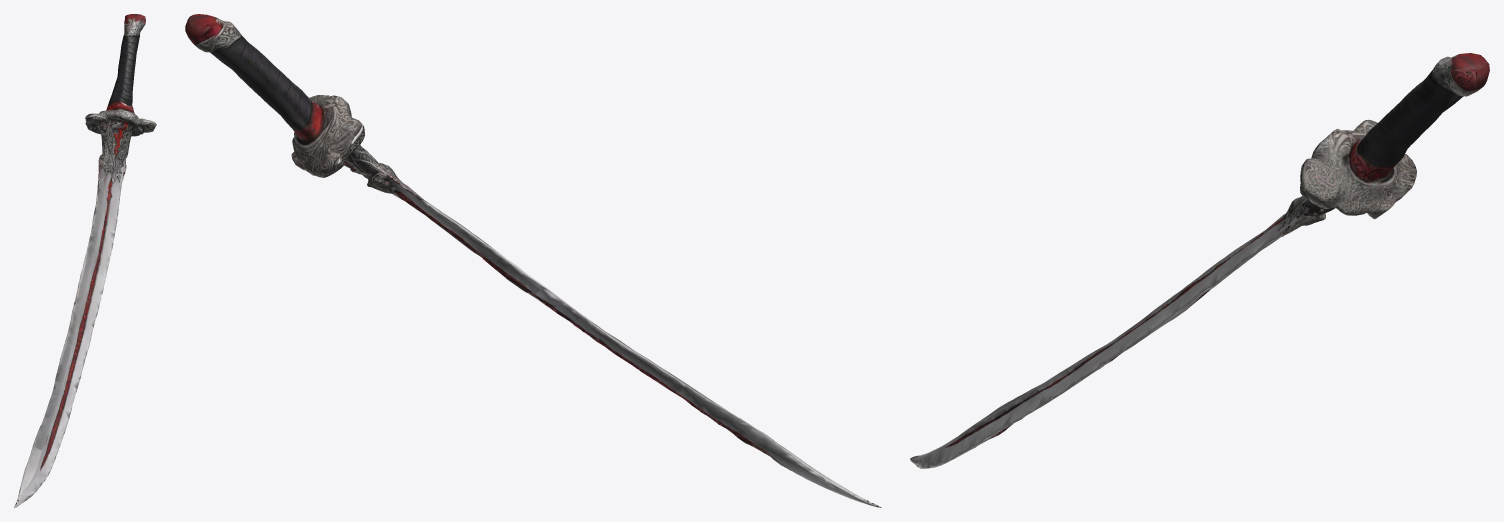
The model's file is blade.glb.
3 renders of one model, left to right at view 1: azimuth 30°, elevation 25°; view 2: azimuth 150°, elevation 25°; view 3: azimuth 270°, elevation 25°, orthographic. The views are drawn at different scales.
Bounding box in the file's own units: 1.71 × 1.98 × 1.59.
Materials: 1 (1 with a texture image).
